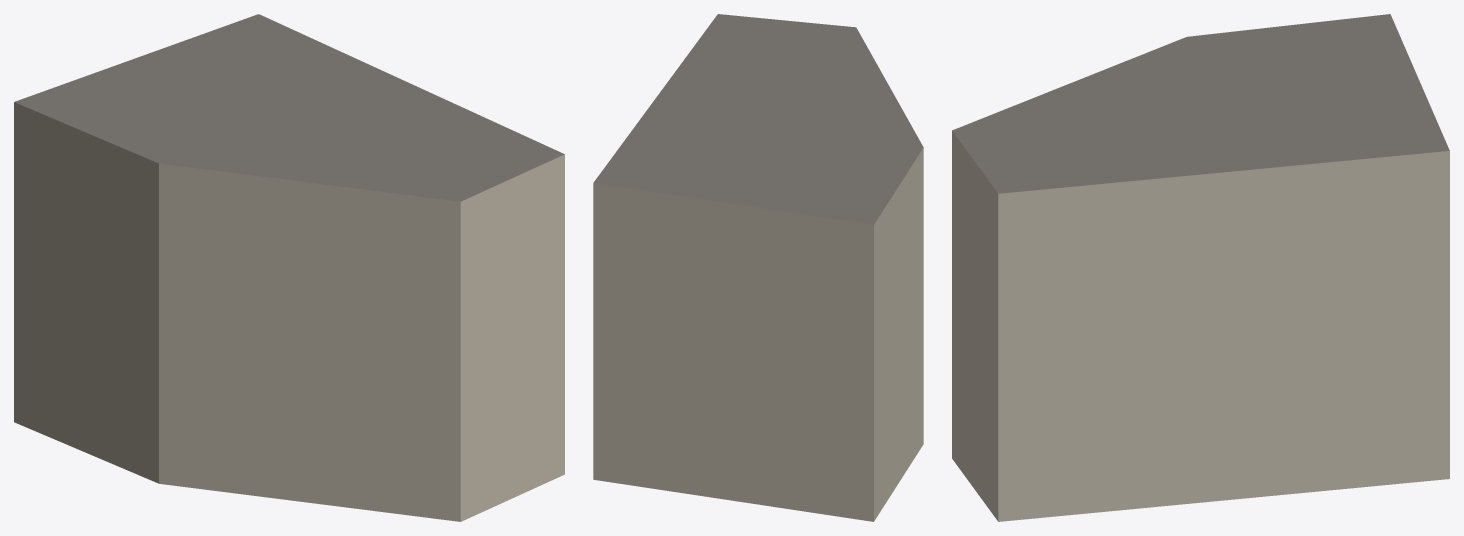
3 views of the same model, side by side, from view 1: azimuth 30°, elevation 25°; view 2: azimuth 150°, elevation 25°; view 3: azimuth 270°, elevation 25° (orthographic). The views are drawn at different scales.
Visible parts, largest first — view 1: HP-w525387325; view 2: HP-w525387325; view 3: HP-w525387325.
Boxes of the visible parts, <box> form: HP-w525387325: <box>14,14,564,521</box>; HP-w525387325: <box>593,14,923,521</box>; HP-w525387325: <box>952,14,1449,521</box>.
Bounding box in the file's own units: 17.63 × 15 × 20.62.
